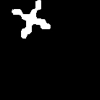single_crochet: (12, 0, 49, 37)
